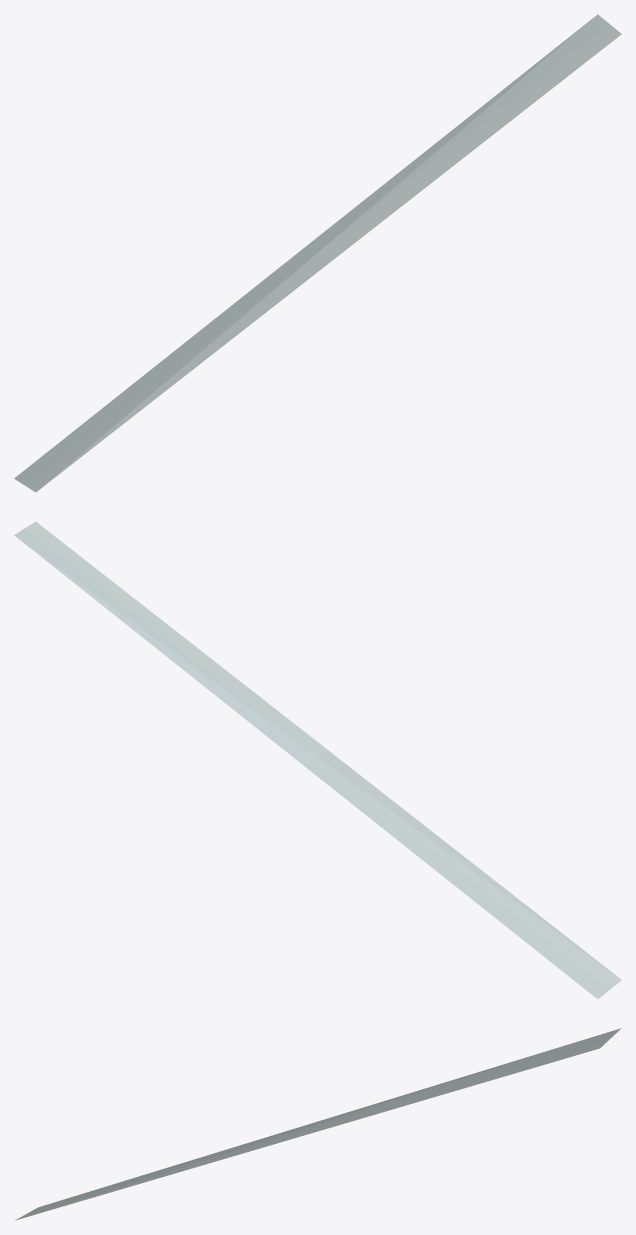
The model's file is zcb001-geode.glb.
3 renders of one model, top to bottom at view 1: azimuth 30°, elevation 25°; view 2: azimuth 150°, elevation 25°; view 3: azimuth 330°, elevation 25°, orthographic.
Visible parts, largest first — view 1: Node; view 2: Node; view 3: Node.
Part boxes in pixels (x1,y1,x2,y2): Node: (14,14,621,492); Node: (14,521,621,999); Node: (15,1028,621,1220).
Size of the model in its own units: 1.7 by 0.8939 by 0.1157.
Materials: 1 (1 with a texture image).
